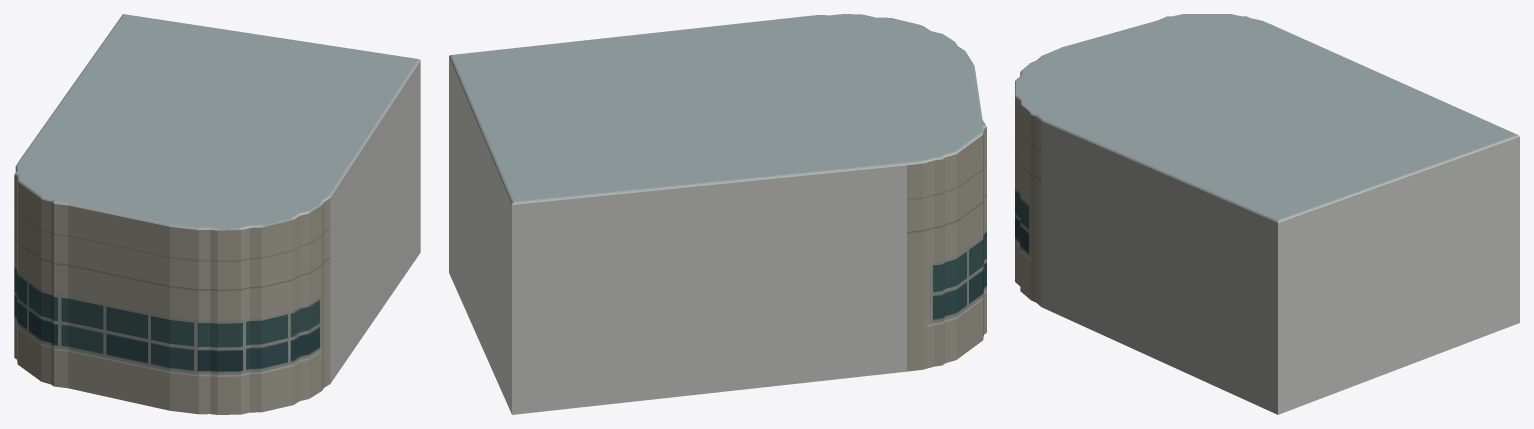
File: fragments.glb
The picture shows the model from 3 angles, left to right: view 1: azimuth 30°, elevation 25°; view 2: azimuth 150°, elevation 25°; view 3: azimuth 270°, elevation 25°; orthographic projection. The views are drawn at different scales.
Visible parts, largest first — view 1: SM_northgate_Fragment_001, SM_northgate_Fragment_045, SM_northgate_Fragment_024, SM_northgate_Fragment_019, SM_northgate_Fragment_018, SM_northgate_Fragment_016, SM_northgate_Fragment_034, SM_northgate_Fragment_049, SM_northgate_Fragment_013, SM_northgate_Fragment_021, SM_northgate_Fragment_000, SM_northgate_Fragment_056 (+21 smaller); view 2: SM_northgate_Fragment_041, SM_northgate_Fragment_036, SM_northgate_Fragment_008, SM_northgate_Fragment_002, SM_northgate_Fragment_025, SM_northgate_Fragment_027, SM_northgate_Fragment_032, SM_northgate_Fragment_003, SM_northgate_Fragment_013, SM_northgate_Fragment_054, SM_northgate_Fragment_055, SM_northgate_Fragment_016 (+22 smaller); view 3: SM_northgate_Fragment_012, SM_northgate_Fragment_034, SM_northgate_Fragment_047, SM_northgate_Fragment_038, SM_northgate_Fragment_000, SM_northgate_Fragment_037, SM_northgate_Fragment_026, SM_northgate_Fragment_011, SM_northgate_Fragment_016, SM_northgate_Fragment_019, SM_northgate_Fragment_023, SM_northgate_Fragment_022 (+22 smaller).
Part boxes in pixels (x1,y1,x2,y2): SM_northgate_Fragment_001: (154,218,284,355); SM_northgate_Fragment_045: (94,285,206,411); SM_northgate_Fragment_024: (87,188,211,285); SM_northgate_Fragment_019: (229,178,340,288); SM_northgate_Fragment_018: (248,316,335,412); SM_northgate_Fragment_016: (106,76,229,140); SM_northgate_Fragment_034: (268,132,371,230); SM_northgate_Fragment_049: (31,158,147,248); SM_northgate_Fragment_013: (14,280,96,394); SM_northgate_Fragment_021: (185,115,317,170); SM_northgate_Fragment_000: (282,87,393,210); SM_northgate_Fragment_056: (207,69,352,118); SM_northgate_Fragment_041: (719,125,863,255); SM_northgate_Fragment_036: (603,141,730,271); SM_northgate_Fragment_008: (689,215,831,340); SM_northgate_Fragment_002: (498,216,633,330); SM_northgate_Fragment_025: (618,263,735,382); SM_northgate_Fragment_027: (725,309,885,391); SM_northgate_Fragment_032: (827,210,929,335); SM_northgate_Fragment_003: (855,135,972,232); SM_northgate_Fragment_013: (878,247,986,373); SM_northgate_Fragment_054: (503,144,614,229); SM_northgate_Fragment_055: (536,294,642,407); SM_northgate_Fragment_016: (622,100,793,161); SM_northgate_Fragment_012: (1235,174,1375,282); SM_northgate_Fragment_034: (1066,109,1177,237); SM_northgate_Fragment_047: (1219,304,1321,414); SM_northgate_Fragment_038: (1185,184,1309,305); SM_northgate_Fragment_000: (1146,140,1253,256); SM_northgate_Fragment_037: (1390,145,1493,230); SM_northgate_Fragment_026: (1305,220,1393,332); SM_northgate_Fragment_011: (1150,256,1228,388); SM_northgate_Fragment_016: (1238,77,1358,131); SM_northgate_Fragment_019: (1015,70,1103,159); SM_northgate_Fragment_023: (1312,126,1406,224); SM_northgate_Fragment_022: (1354,280,1441,376).
Bounding box in the file's own units: 2.14 × 0.932 × 2.2.
4 materials, 1 textured.
